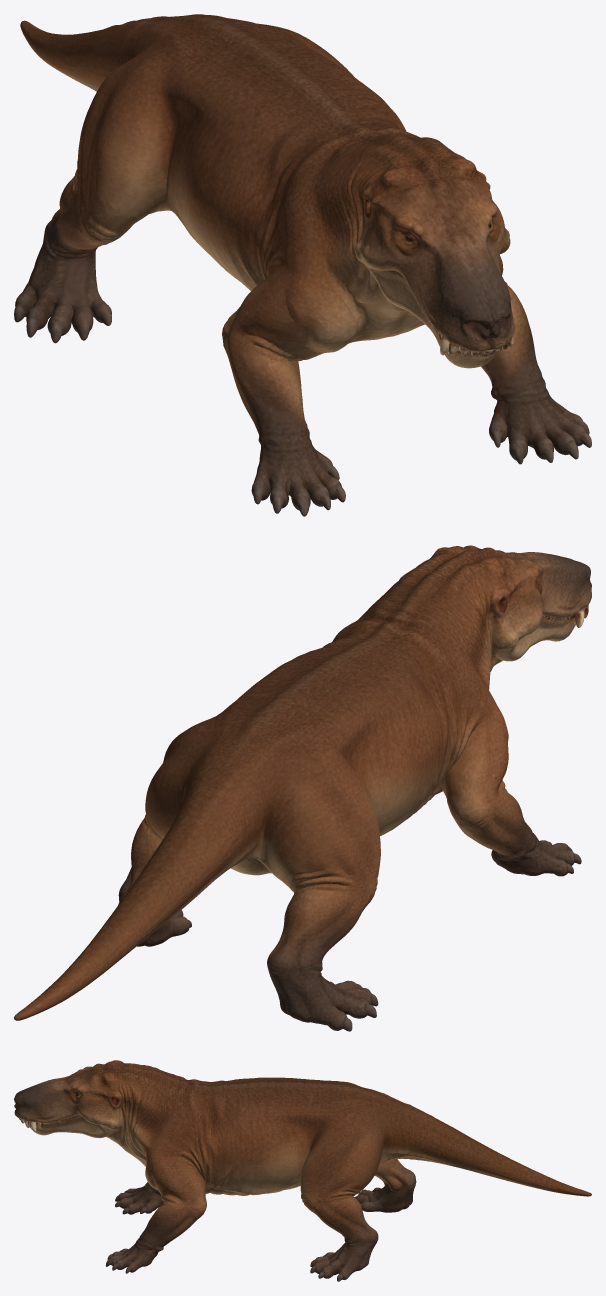
The picture shows the model from 3 angles, top to bottom: view 1: azimuth 30°, elevation 25°; view 2: azimuth 150°, elevation 25°; view 3: azimuth 270°, elevation 25°; orthographic projection. The views are drawn at different scales.
Visible parts, largest first — view 1: Authored orientation; view 2: Authored orientation; view 3: Authored orientation.
Boxes of the visible parts, x1,y1,x2,y2 form: Authored orientation: (14,14,591,516); Authored orientation: (14,545,591,1031); Authored orientation: (14,1060,591,1281).
Size of the model in its own units: 0.3505 by 0.3219 by 1.
Materials: 1 (1 with a texture image).
